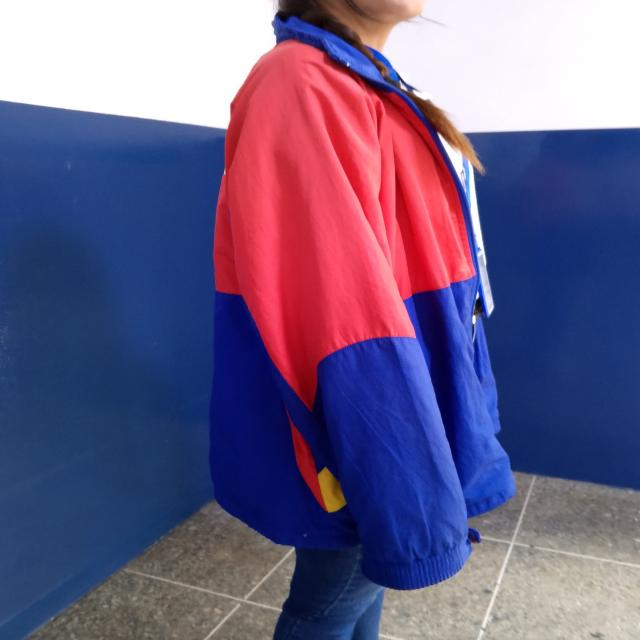carnet: (477, 250, 494, 315)
chaqueta_unefa: (208, 9, 517, 591)
